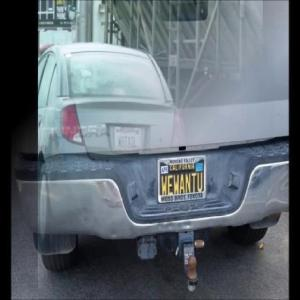Plate: (157, 162, 205, 196)
